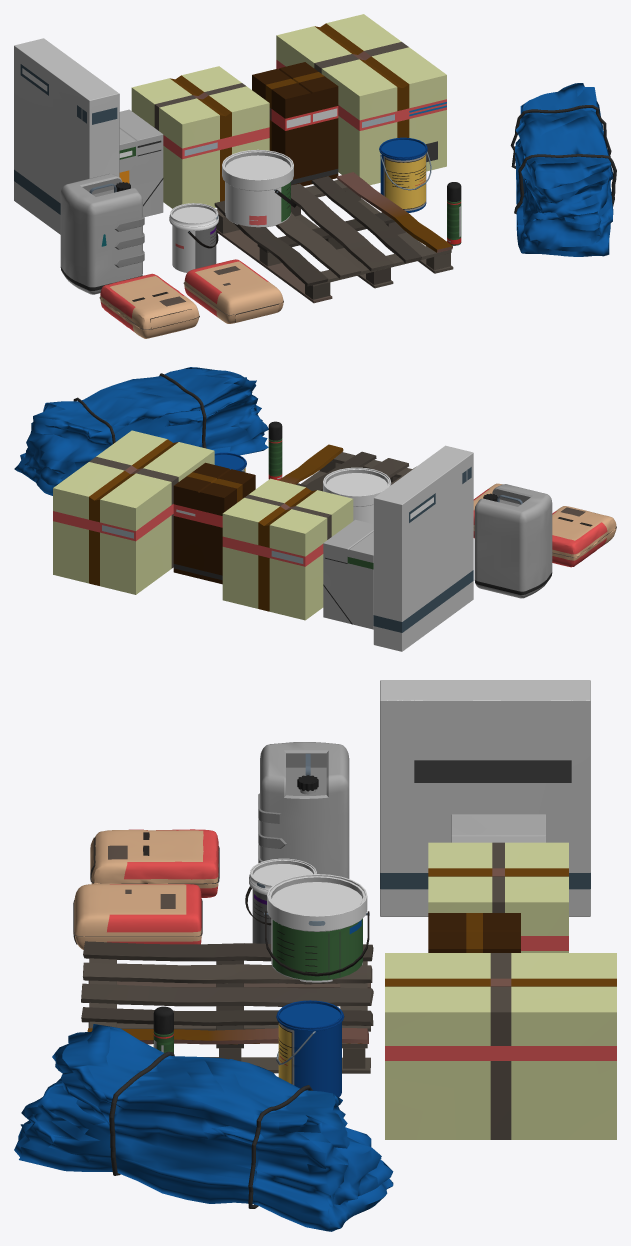
Rendered from SM_Stores_Set_A.fbx.
3 renders of one model, top to bottom at view 1: azimuth 30°, elevation 25°; view 2: azimuth 150°, elevation 25°; view 3: azimuth 270°, elevation 25°, orthographic. The views are drawn at different scales.
Parts seen in each view (by area): view 1: SM_Stores_Set_A; view 2: SM_Stores_Set_A; view 3: SM_Stores_Set_A.
Part boxes in pixels (x1=…): SM_Stores_Set_A: x1=14, y1=14, x2=616, y2=338; SM_Stores_Set_A: x1=14, y1=367, x2=616, y2=651; SM_Stores_Set_A: x1=14, y1=680, x2=616, y2=1231.
Size of the model in its own units: 387 by 105 by 264.
